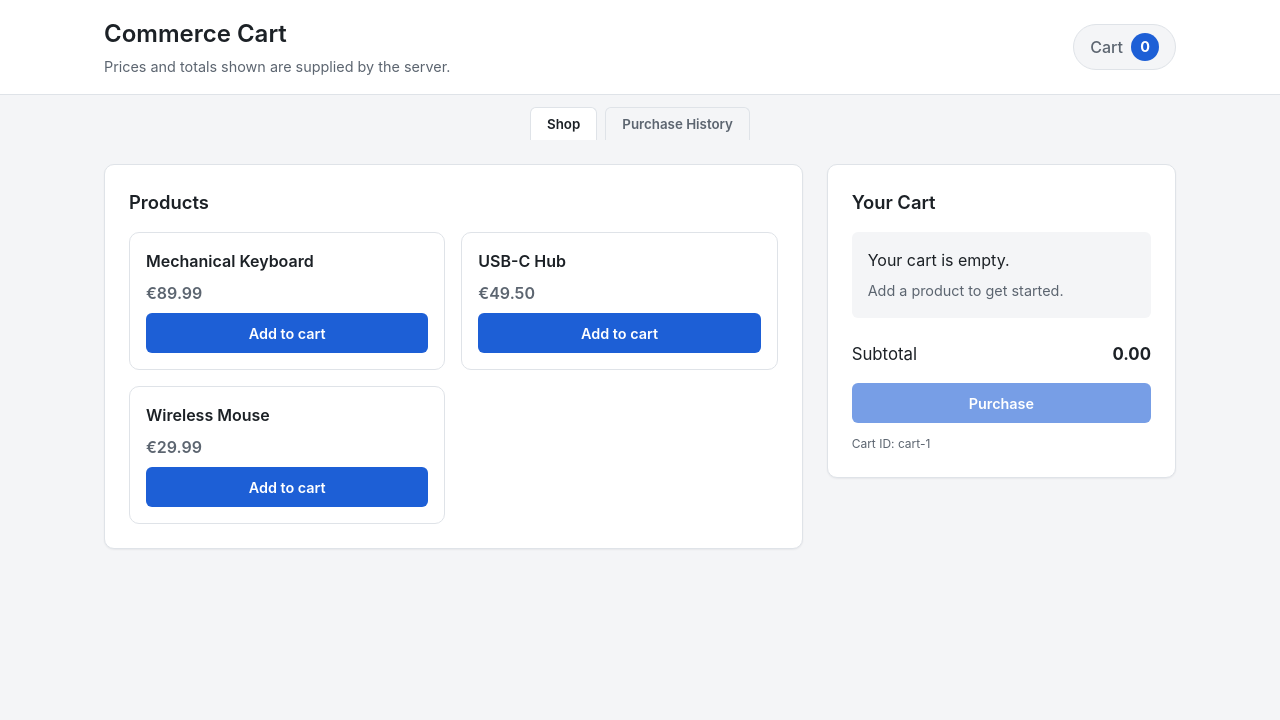
Test: Commerce Cart application › shows a backend ProblemDetails message for a mutation failure
Click the button "Add to cart" below "€89.99".
click(287, 333)  # box [146,313,428,353]
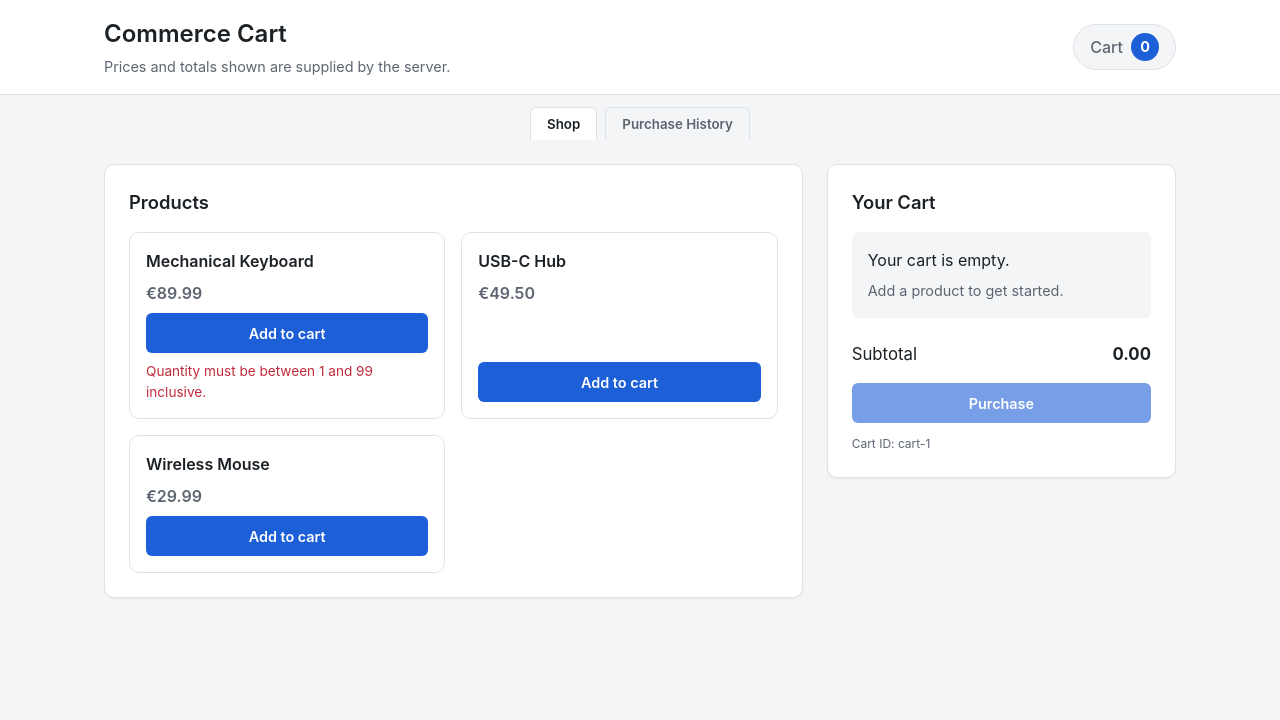
Result: the text "Quantity must be between 1 and 99 inclusive." is shown at [146,363,373,400]
